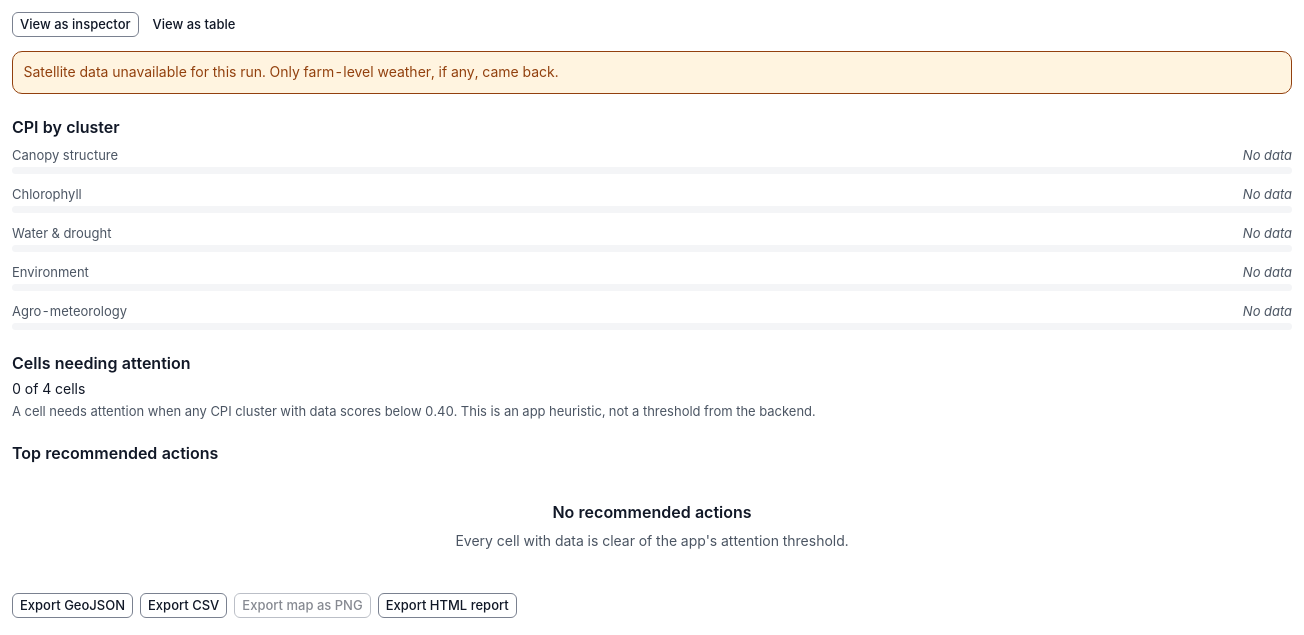
ResultsPanel › moves the selection with the arrow keys
This screenshot has width=1304, height=635.
Click the button "View as table". click: {"x": 194, "y": 24}
box: top-left (146, 12), bottom-right (242, 36)
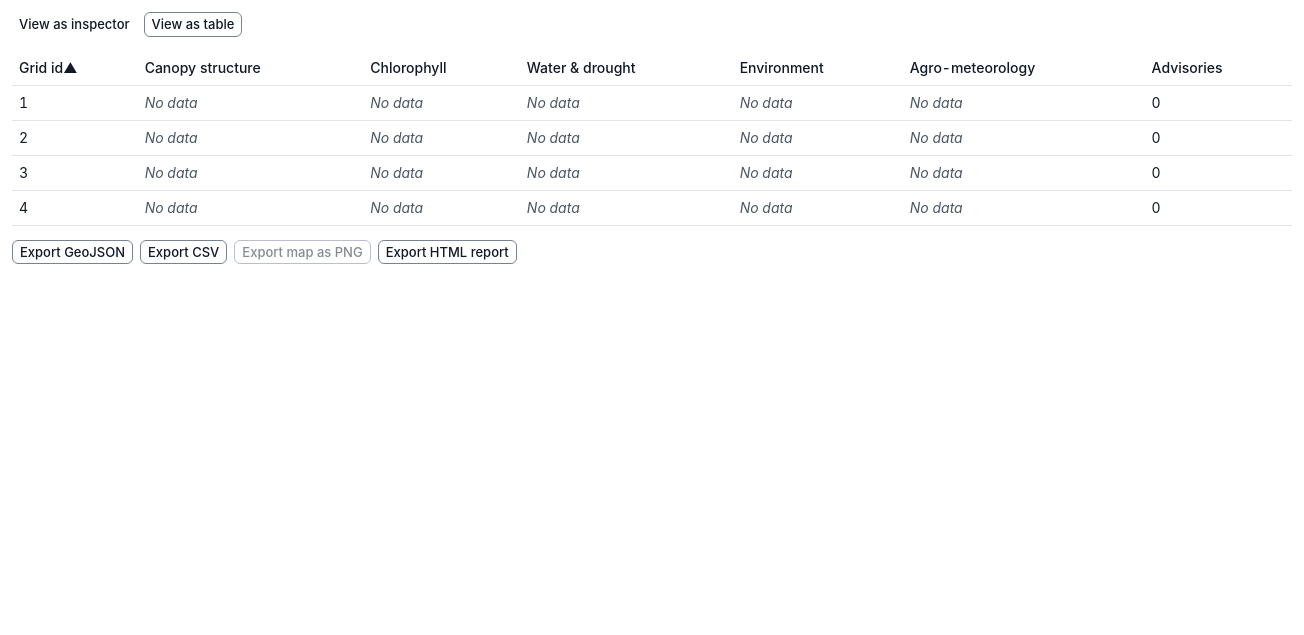
Click the row "1 No data No data No data No data No data 0". click: {"x": 652, "y": 103}
box: top-left (12, 86), bottom-right (1292, 120)
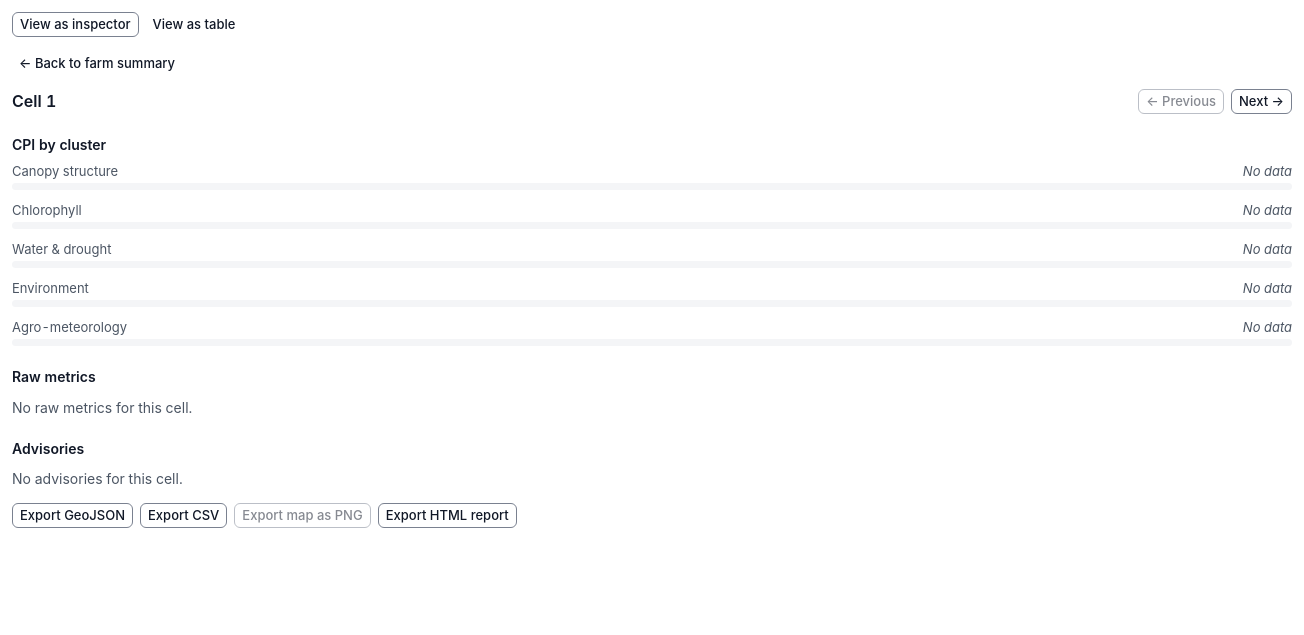
Now the heading "Cell 1" is shown, box top-left (12, 89), bottom-right (56, 113)
Press ArrowRight
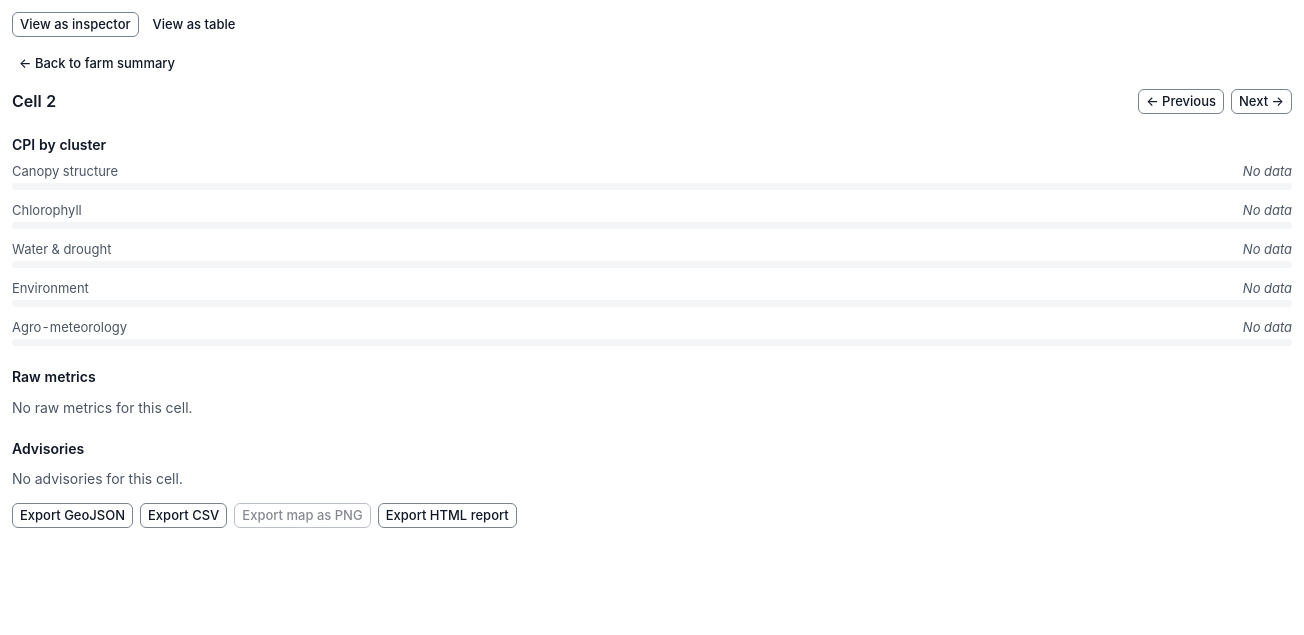
Now the heading "Cell 2" is shown, box top-left (12, 89), bottom-right (56, 113)
